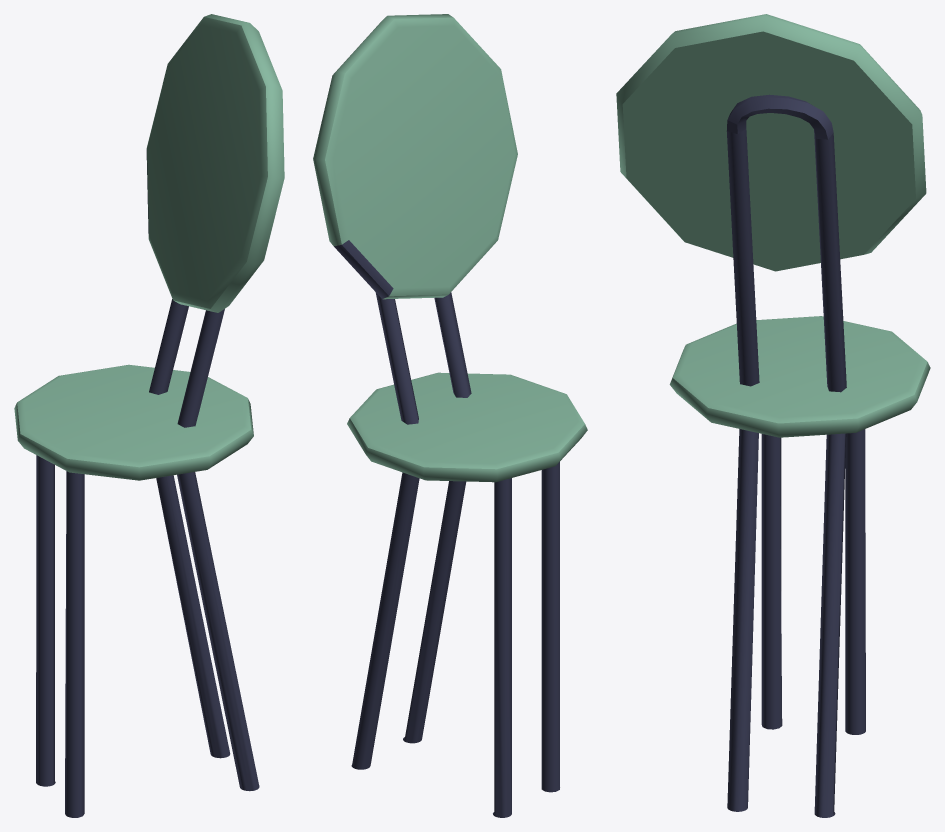
The model's file is SM_Chair2.fbx.
3 views of the same model, side by side, from view 1: azimuth 30°, elevation 25°; view 2: azimuth 150°, elevation 25°; view 3: azimuth 270°, elevation 25° (orthographic). The views are drawn at different scales.
Parts seen in each view (by area): view 1: SM_Chair2; view 2: SM_Chair2; view 3: SM_Chair2.
Boxes of the visible parts, left/top/right/bottom form: SM_Chair2: left=14, top=14, right=284, bottom=817; SM_Chair2: left=313, top=14, right=587, bottom=817; SM_Chair2: left=616, top=14, right=930, bottom=817.
Size of the model in its own units: 31.33 by 101 by 36.03.
